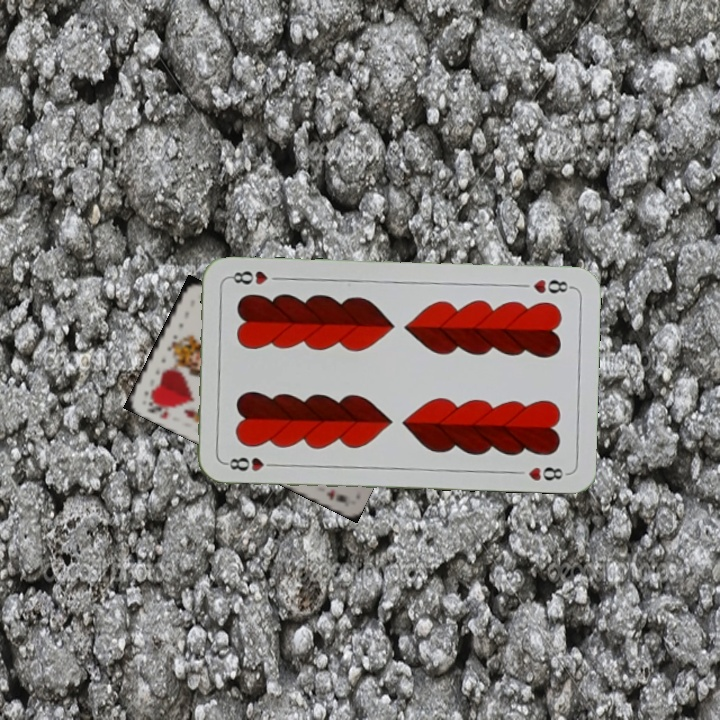H8: (221, 453, 280, 474), (529, 275, 575, 296)
HK: (144, 394, 171, 422)
